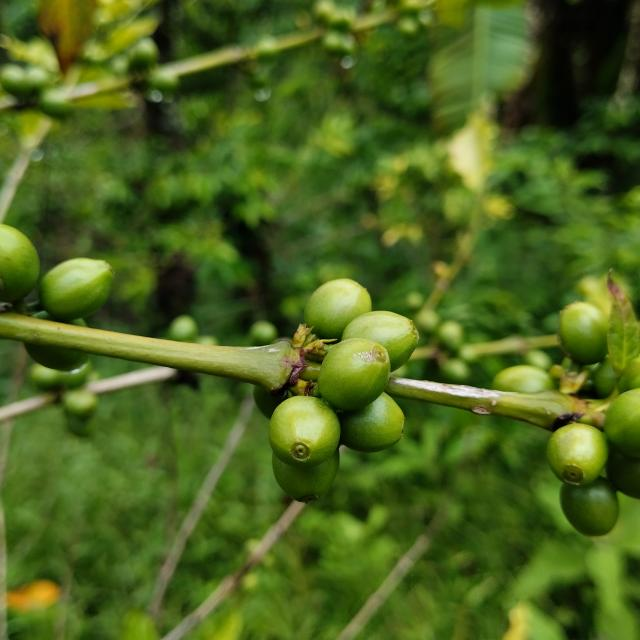green: (318, 338, 391, 411), (269, 396, 341, 468), (38, 258, 113, 321), (342, 311, 419, 372), (304, 279, 372, 339), (339, 392, 405, 453), (548, 424, 610, 486), (272, 450, 340, 503), (561, 477, 620, 537), (558, 302, 610, 365), (0, 224, 39, 302), (605, 389, 640, 459), (607, 451, 640, 500)
